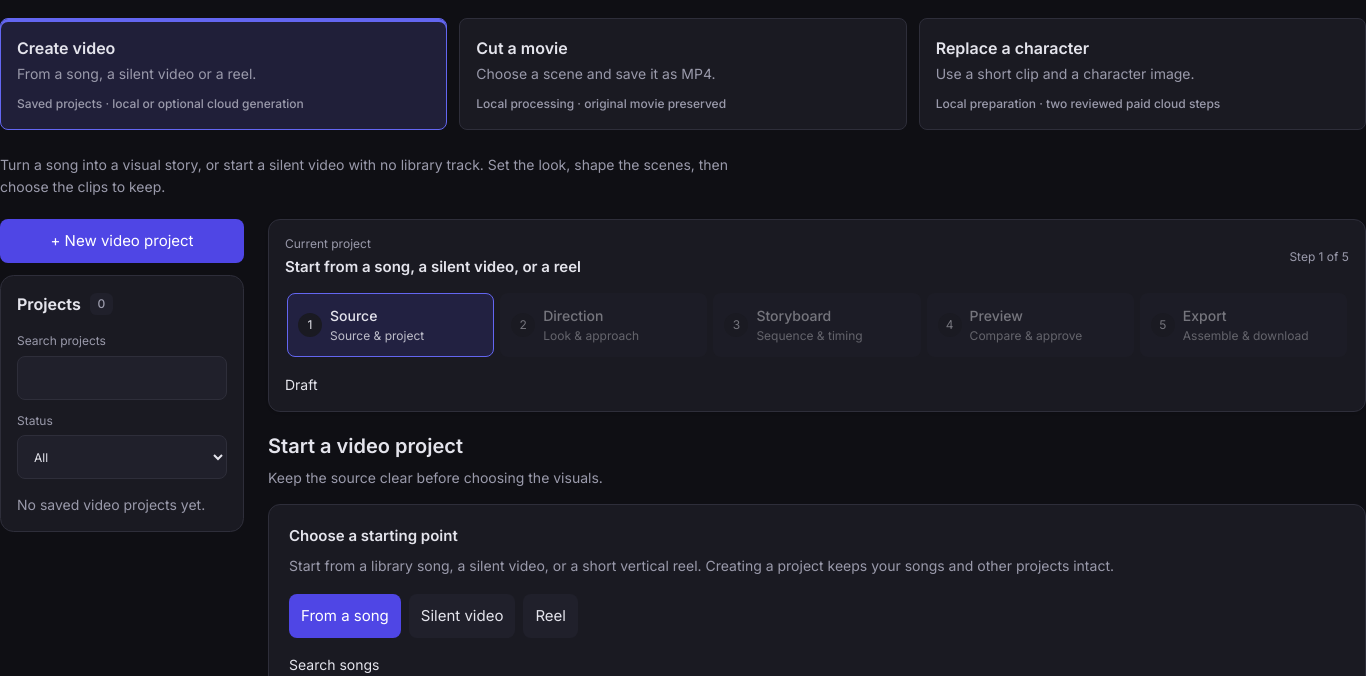
hands a completed local cut into replacement and focuses its heading
Click the tab that starts with "Cut a movie" at (683, 74), box [459,18,907,130]
(page scrolled)
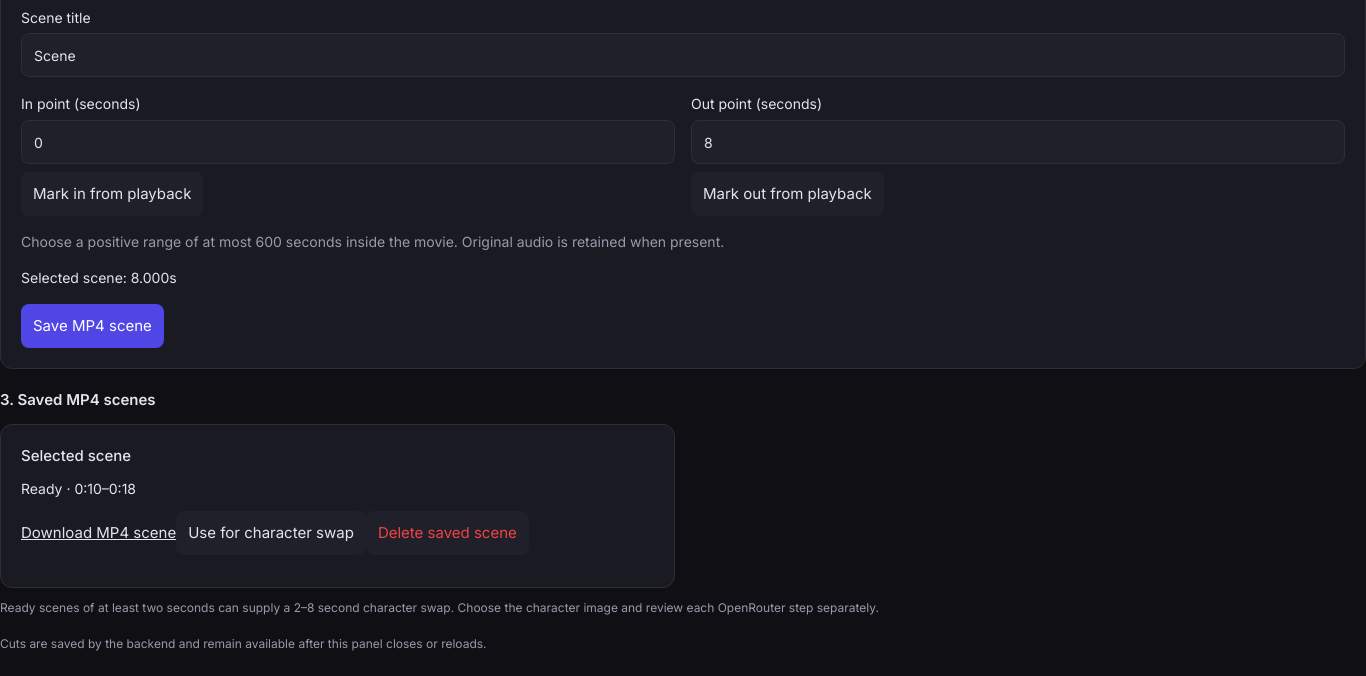
Click the button "Use for character swap" at (271, 533), box [176,511,366,555]
(page scrolled)
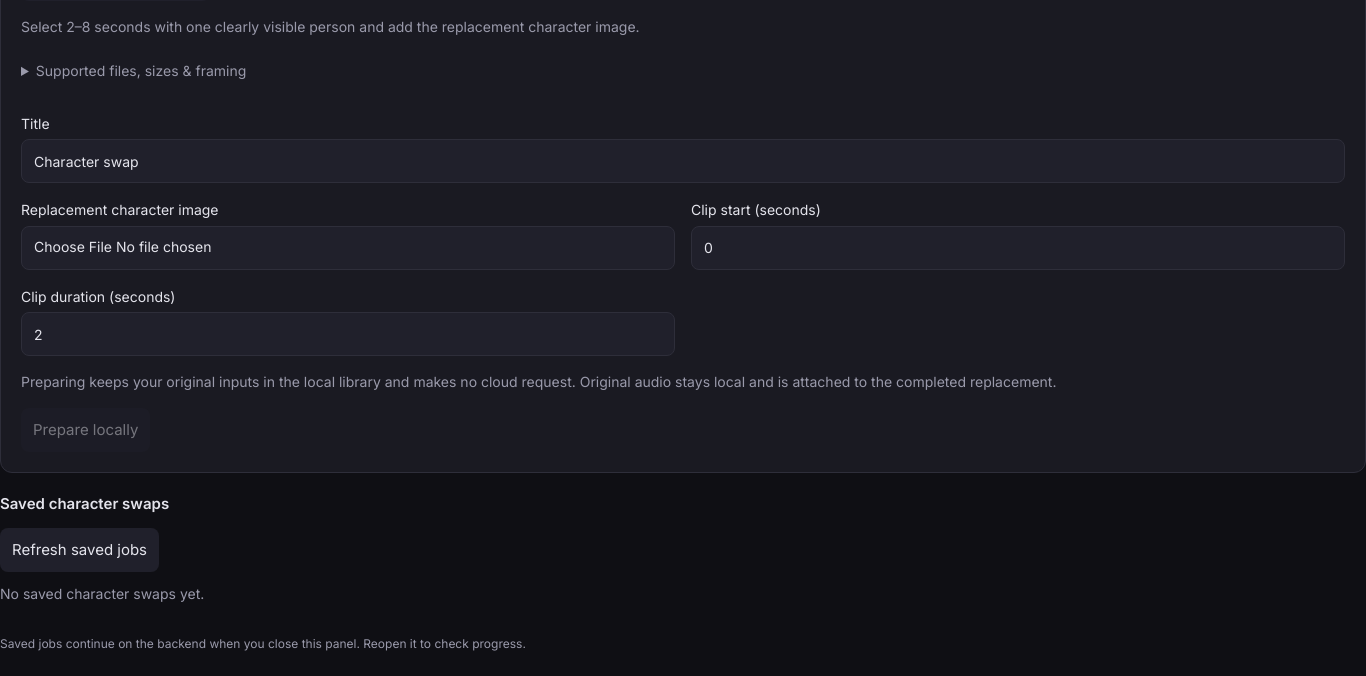
Result: the number field labelled "Clip duration (seconds)" holds "2" at [21,312,675,356]
